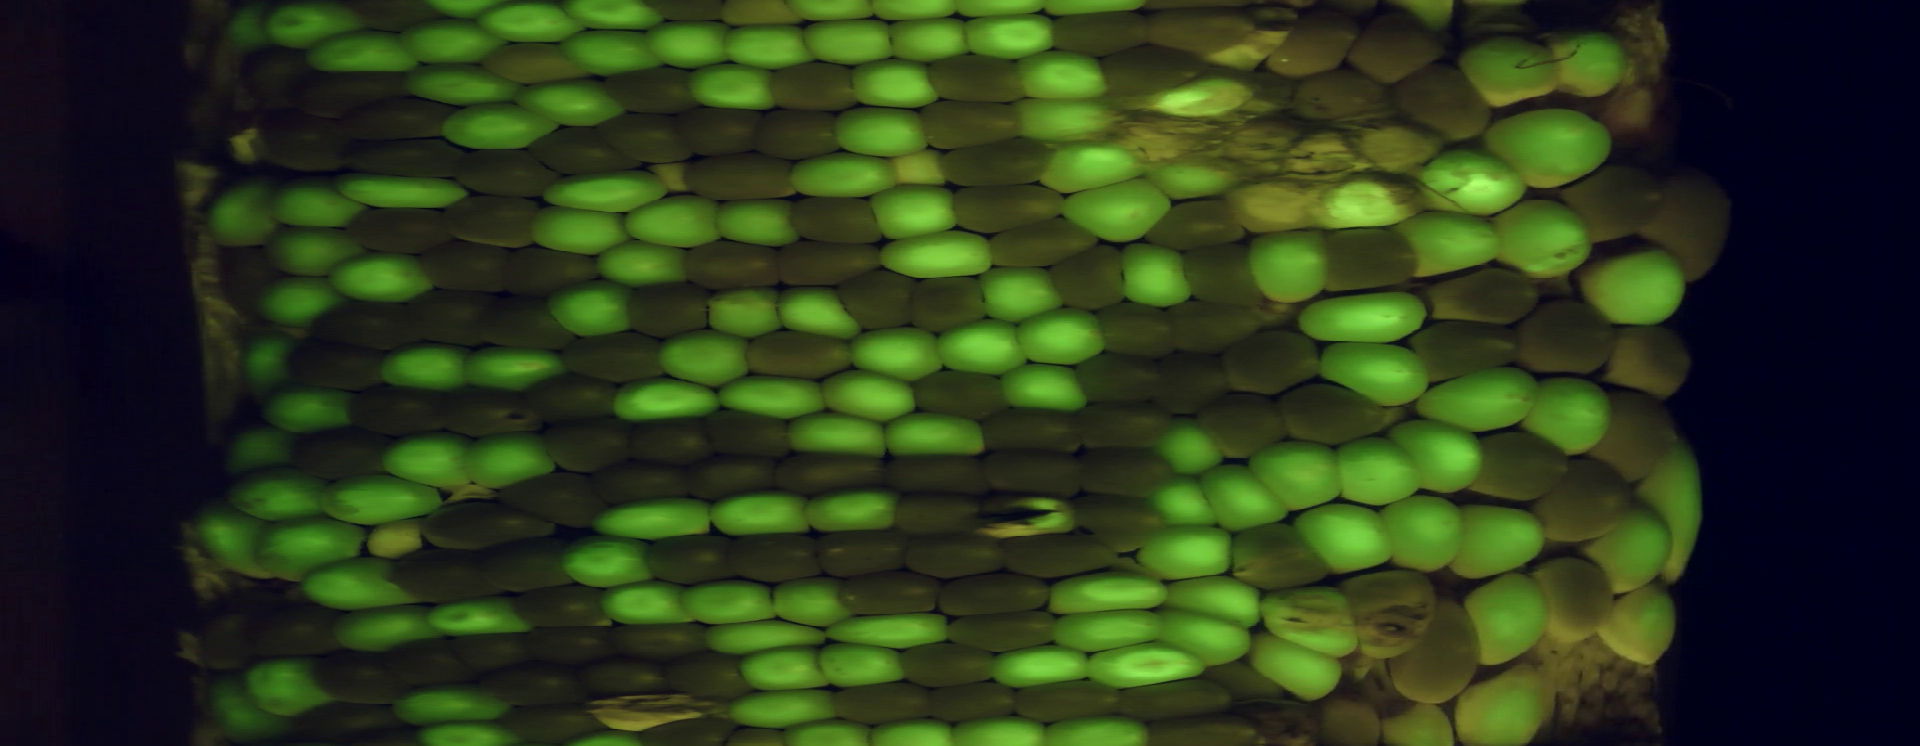fluorescent: (1476, 103, 1620, 195), (1631, 432, 1709, 589), (1575, 499, 1678, 601), (1456, 568, 1558, 673), (1575, 241, 1689, 330), (1487, 194, 1597, 282), (1414, 360, 1545, 434), (1384, 418, 1495, 500), (1056, 175, 1179, 249), (1447, 659, 1551, 746), (1455, 29, 1565, 111), (1516, 370, 1615, 461), (1316, 333, 1433, 410), (1258, 581, 1365, 664), (246, 514, 372, 586), (1417, 143, 1534, 219), (1284, 499, 1402, 575), (1296, 285, 1435, 349), (1445, 499, 1550, 582), (185, 499, 278, 590), (1244, 627, 1348, 708), (1396, 208, 1509, 282), (1596, 582, 1686, 671), (1035, 136, 1163, 198), (293, 554, 429, 612), (1247, 435, 1346, 514), (1375, 492, 1467, 576), (220, 462, 340, 524), (1196, 459, 1294, 535), (1309, 169, 1425, 233), (317, 468, 446, 526), (328, 165, 475, 216), (433, 99, 567, 154), (322, 247, 444, 307), (1245, 225, 1333, 309), (201, 669, 300, 742), (1332, 432, 1427, 510), (236, 653, 340, 723), (1153, 568, 1270, 631), (1543, 20, 1633, 99), (388, 677, 520, 731), (1144, 606, 1255, 670), (536, 168, 673, 219), (504, 72, 627, 130), (258, 171, 375, 232), (784, 147, 905, 205), (620, 191, 731, 254), (1081, 639, 1211, 692), (1040, 568, 1176, 619), (1142, 71, 1265, 126), (400, 59, 531, 110), (1131, 521, 1239, 583), (540, 274, 638, 343), (876, 227, 999, 281), (301, 24, 422, 78), (933, 314, 1033, 379), (377, 428, 478, 492), (523, 201, 636, 258), (235, 325, 309, 413), (392, 16, 514, 69), (653, 327, 756, 390), (258, 222, 367, 281), (866, 179, 962, 245), (327, 601, 440, 658), (606, 371, 724, 425), (585, 494, 718, 541), (198, 176, 285, 249), (818, 608, 956, 653), (842, 323, 947, 383), (460, 429, 562, 490), (702, 486, 817, 540), (1144, 412, 1236, 479), (1005, 94, 1125, 146), (556, 529, 656, 590), (771, 281, 867, 344), (456, 341, 571, 393), (977, 263, 1070, 328), (1015, 304, 1108, 369), (880, 405, 989, 461), (781, 409, 893, 463), (558, 24, 669, 78), (637, 16, 740, 73), (247, 273, 350, 331), (376, 338, 476, 397), (700, 615, 838, 658), (673, 575, 782, 628), (714, 372, 830, 423), (1046, 608, 1171, 654), (1011, 47, 1114, 103), (831, 103, 934, 159), (955, 9, 1062, 62), (256, 1, 365, 54), (253, 382, 362, 435), (1118, 238, 1196, 310), (845, 54, 943, 111), (767, 570, 855, 633), (595, 575, 699, 628), (798, 12, 898, 69), (820, 366, 920, 423), (986, 639, 1100, 688), (732, 641, 833, 696), (998, 356, 1091, 415), (708, 194, 804, 250), (471, 4, 590, 49), (718, 18, 817, 72), (681, 59, 778, 114), (800, 481, 900, 534), (977, 490, 1082, 540), (726, 684, 842, 729), (809, 639, 911, 691), (1142, 469, 1226, 532), (591, 236, 692, 288), (703, 282, 790, 341), (883, 12, 973, 69), (422, 594, 534, 639), (1142, 154, 1242, 205), (219, 423, 302, 480), (1378, 699, 1462, 746), (1035, 713, 1153, 746), (947, 710, 1054, 746), (557, 1, 665, 34), (361, 513, 429, 563), (407, 717, 520, 746), (775, 714, 878, 746), (219, 1, 274, 58), (866, 712, 954, 746), (888, 145, 951, 189), (780, 1, 877, 28), (864, 1, 964, 26)
nonfluorescent: (1638, 159, 1742, 289), (1386, 593, 1488, 709), (1531, 454, 1640, 546), (1555, 159, 1670, 246), (1584, 383, 1681, 486), (1385, 59, 1495, 148), (1342, 567, 1441, 661), (383, 540, 513, 610), (415, 492, 564, 552), (1404, 316, 1524, 390), (1464, 428, 1575, 507), (1526, 552, 1616, 649), (1416, 263, 1545, 331), (1342, 9, 1450, 89), (1512, 296, 1620, 376), (1275, 379, 1395, 450), (1216, 323, 1325, 401), (1314, 222, 1423, 296), (1193, 388, 1292, 469), (489, 469, 612, 533), (1135, 4, 1262, 64), (1261, 9, 1364, 80), (1604, 323, 1700, 399), (520, 121, 651, 176), (980, 213, 1104, 271), (304, 647, 419, 709), (944, 180, 1071, 236), (1070, 489, 1169, 561), (936, 134, 1060, 190), (475, 532, 583, 597), (290, 66, 419, 120), (449, 143, 562, 205), (993, 530, 1133, 579), (1092, 39, 1211, 97), (555, 326, 669, 386), (245, 114, 356, 175), (1149, 347, 1236, 425), (336, 92, 462, 146), (775, 233, 890, 292), (769, 447, 891, 502), (302, 298, 427, 352), (1160, 296, 1267, 359), (1224, 176, 1330, 240), (678, 149, 800, 205), (287, 425, 396, 486), (242, 599, 351, 660), (741, 326, 856, 383), (336, 381, 451, 439), (342, 134, 470, 185), (336, 205, 458, 258), (1176, 240, 1270, 310), (415, 236, 524, 296), (471, 293, 580, 353), (1116, 673, 1237, 726), (208, 239, 287, 322), (830, 263, 923, 333), (440, 194, 545, 255), (1138, 196, 1251, 252), (916, 96, 1027, 153), (638, 529, 744, 589), (282, 333, 389, 392), (471, 659, 595, 709), (923, 50, 1033, 107), (929, 570, 1056, 619), (438, 383, 550, 439), (475, 36, 589, 89), (977, 443, 1091, 497), (681, 236, 787, 294), (1075, 443, 1177, 503), (372, 633, 482, 688), (822, 677, 937, 730), (940, 608, 1064, 657), (1044, 245, 1133, 314), (905, 367, 1016, 421), (834, 565, 945, 619), (1069, 398, 1176, 454), (1049, 6, 1156, 62), (1010, 677, 1127, 729), (899, 530, 1009, 584), (1092, 296, 1182, 363), (235, 40, 320, 110), (497, 245, 604, 300), (879, 450, 996, 500), (724, 529, 824, 587), (588, 456, 697, 508), (601, 62, 705, 118), (591, 110, 696, 165), (784, 192, 888, 247), (622, 278, 714, 341), (520, 372, 624, 428), (746, 103, 845, 160), (808, 526, 913, 579), (538, 414, 636, 472), (403, 285, 491, 349), (1071, 349, 1167, 408), (977, 405, 1089, 456), (493, 699, 613, 746), (1282, 69, 1387, 121), (684, 451, 786, 505), (675, 100, 768, 159), (622, 416, 721, 472), (658, 647, 757, 702), (907, 273, 996, 334), (699, 404, 791, 463), (760, 58, 860, 111), (607, 619, 716, 668), (1356, 116, 1449, 173), (922, 679, 1025, 729), (889, 488, 983, 541), (896, 639, 999, 688), (519, 624, 623, 670), (168, 76, 244, 140), (189, 609, 263, 673), (511, 581, 609, 628), (1195, 657, 1291, 706), (444, 628, 542, 674), (1315, 691, 1392, 746), (288, 696, 413, 729), (578, 654, 673, 697), (634, 710, 738, 746), (1142, 714, 1258, 746), (719, 725, 790, 746)
